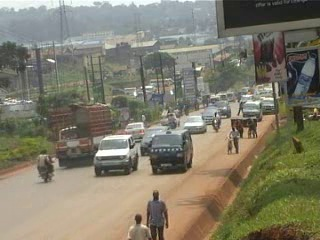Car: (138, 125, 172, 156), (180, 113, 208, 135), (123, 120, 148, 140), (211, 98, 233, 119), (201, 106, 222, 127)
Motorcycle: (34, 152, 56, 183), (210, 112, 220, 134), (165, 112, 177, 128)
